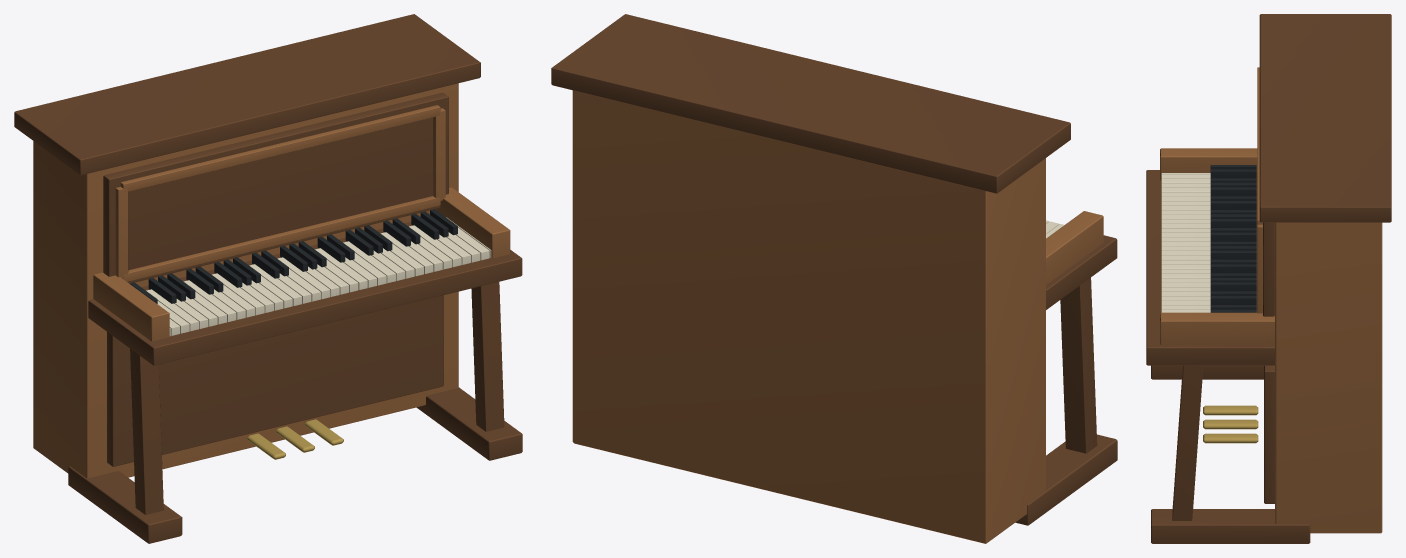
File: S046_upright_piano_rebuilt.glb
The picture shows the model from 3 angles, left to right: view 1: azimuth 30°, elevation 25°; view 2: azimuth 150°, elevation 25°; view 3: azimuth 270°, elevation 25°; orthographic projection. The views are drawn at different scales.
Visible parts, largest first — view 1: Oak_end_and_edge, Oiled_warm_oak, Warm_ivory, Deep_joint_recess, Satin_brass; view 2: Oiled_warm_oak, Oak_end_and_edge; view 3: Oak_end_and_edge, Oiled_warm_oak, Warm_ivory, Deep_joint_recess, Satin_brass.
Part boxes in pixels (<box>): Oak_end_and_edge: <box>14,14,522,543</box>; Oiled_warm_oak: <box>33,83,510,478</box>; Warm_ivory: <box>146,217,491,336</box>; Deep_joint_recess: <box>130,209,457,303</box>; Satin_brass: <box>247,419,343,459</box>; Oiled_warm_oak: <box>572,90,1103,543</box>; Oak_end_and_edge: <box>551,14,1117,525</box>; Oak_end_and_edge: <box>1146,14,1391,543</box>; Oiled_warm_oak: <box>1160,67,1382,533</box>; Warm_ivory: <box>1161,173,1210,312</box>; Deep_joint_recess: <box>1210,165,1256,312</box>; Satin_brass: <box>1203,405,1258,443</box>.
Bounding box in the file's own units: 1.69 × 1.4 × 0.905.
